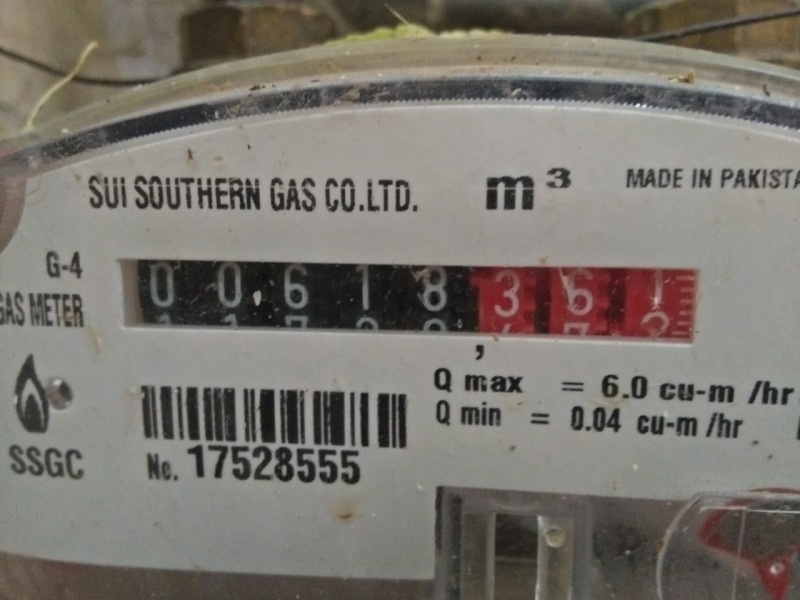ssgc: (116, 251, 700, 351)
